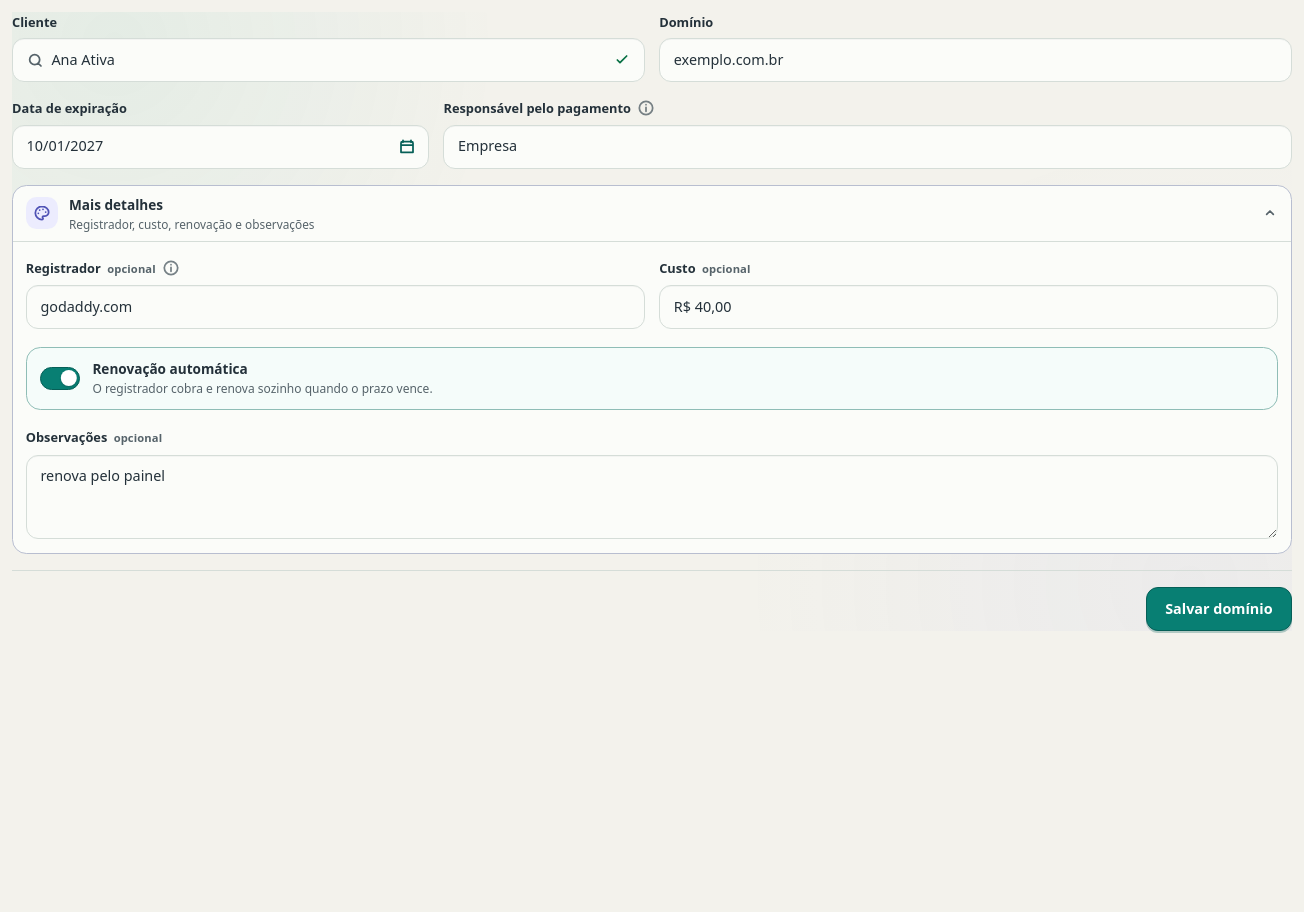
Scenario: preservação do formulário quando o servidor recusa › mantém desmarcada a caixa que o usuário desmarcou de propósito
Click the checkbox labelled "Renovação automática" at (60, 378), box [40,366,80,390]
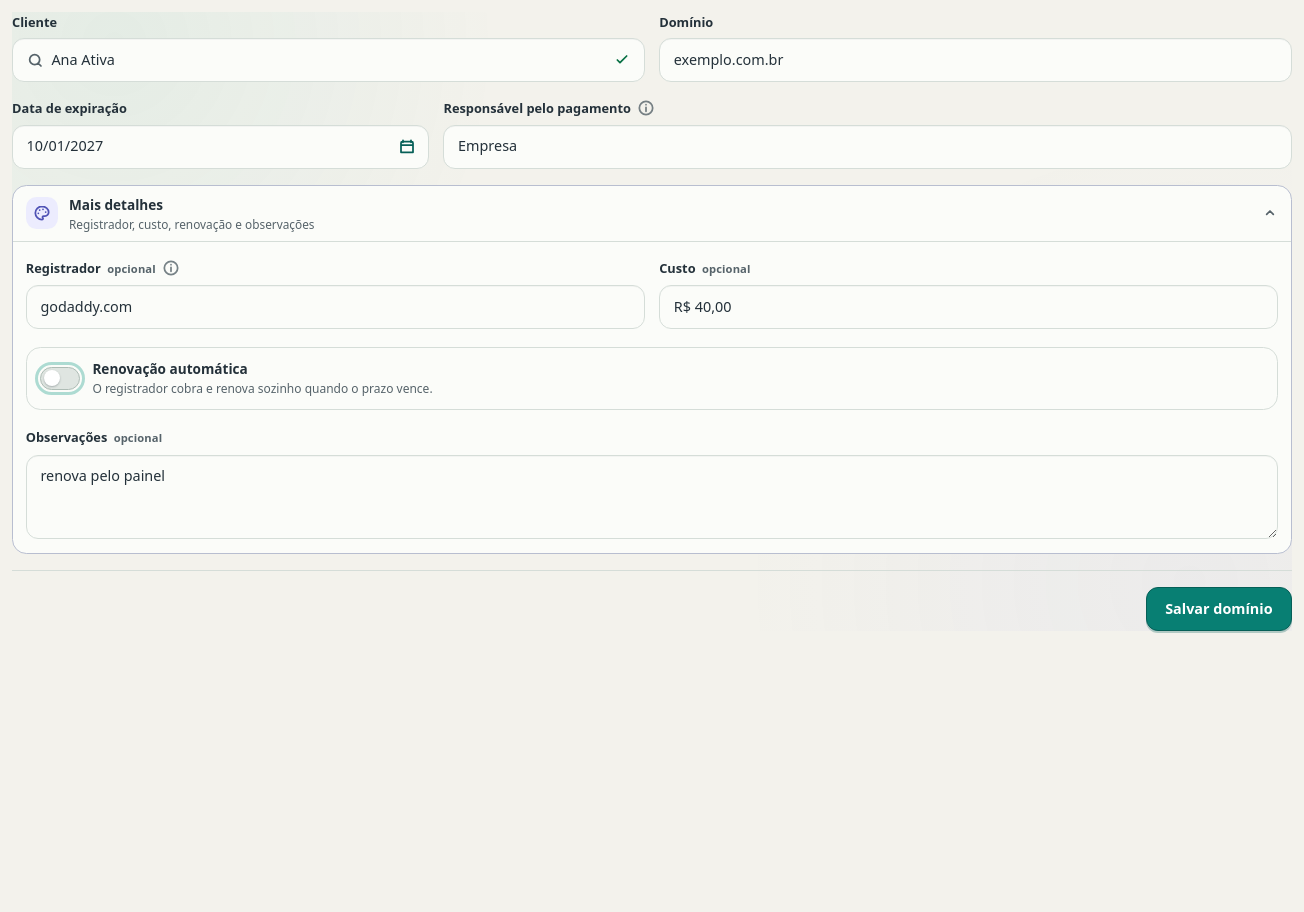
Click the button "Salvar domínio" at (1219, 609), box [1146,587,1292,631]
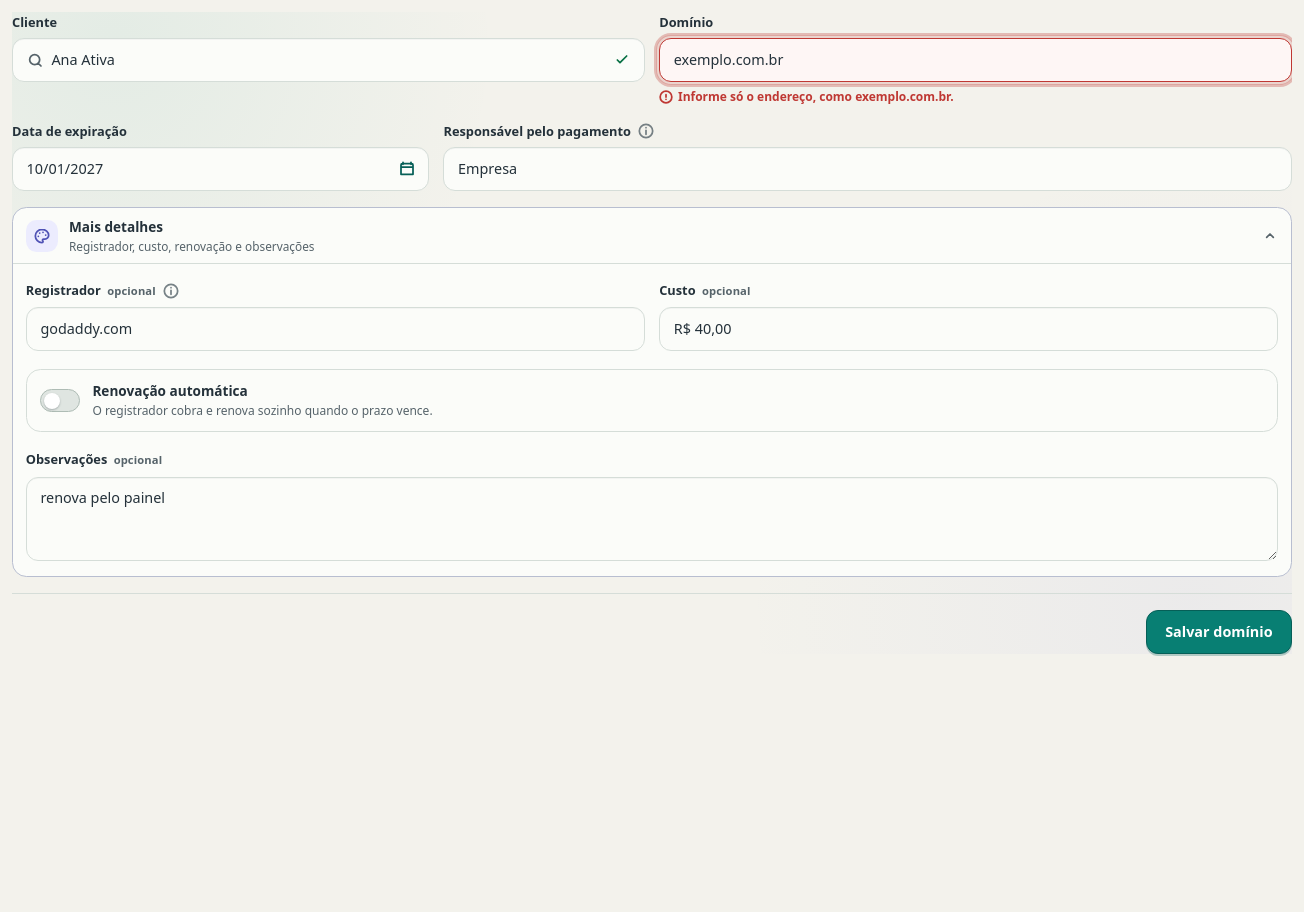
Expected: the checkbox labelled "Renovação automática" is not checked, [40,389,80,412]
Expected: the text "Informe só o endereço, como exemplo.com.br." is shown, [659,88,954,105]
